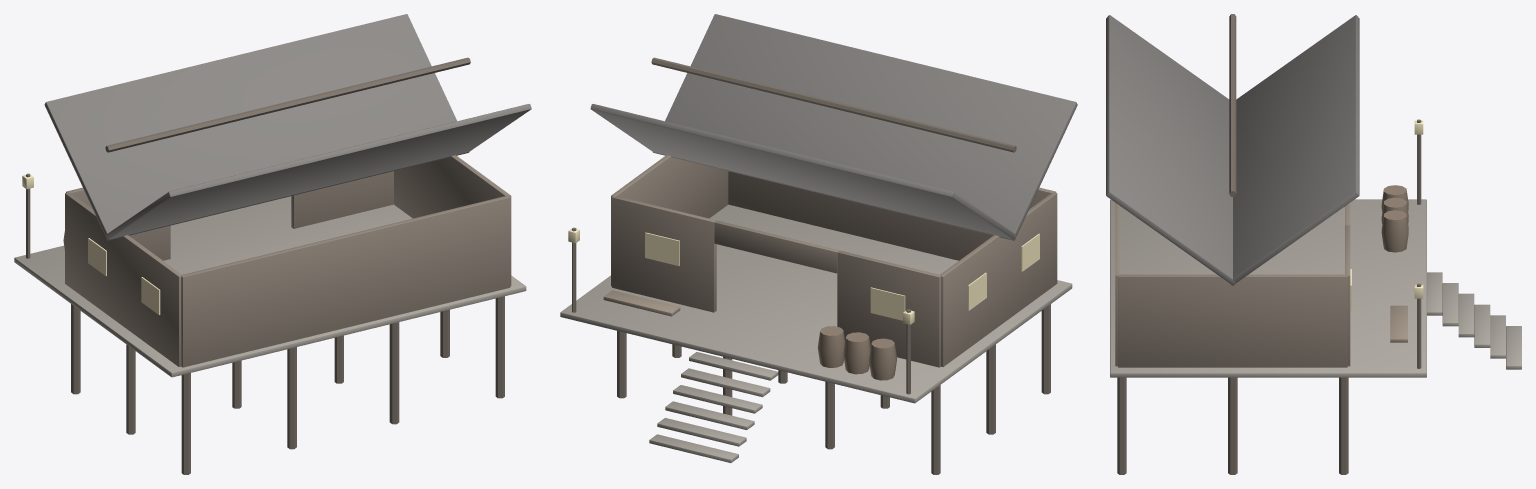
The model's file is lantern_hall.gltf.
3 renders of one model, left to right at view 1: azimuth 30°, elevation 25°; view 2: azimuth 150°, elevation 25°; view 3: azimuth 270°, elevation 25°, orthographic.
Parts seen in each view (by area): view 1: Body; view 2: Body; view 3: Body.
Part boxes in pixels (x1=…): Body: x1=14, y1=14, x2=531, y2=474; Body: x1=560, y1=14, x2=1077, y2=474; Body: x1=1106, y1=14, x2=1521, y2=474.
Bounding box in the file's own units: 10.6 × 8.18 × 10.5.
